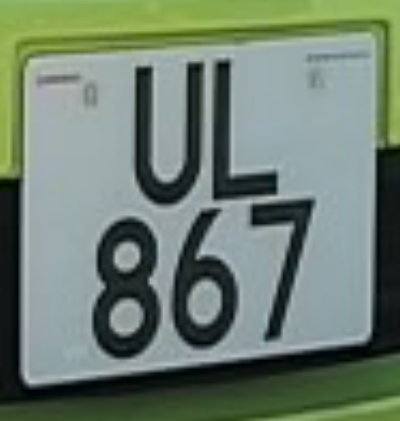6: (156, 196, 250, 366)
7: (236, 182, 330, 360)
8: (70, 198, 173, 379)
L: (202, 33, 294, 205)
U: (120, 38, 215, 210)
